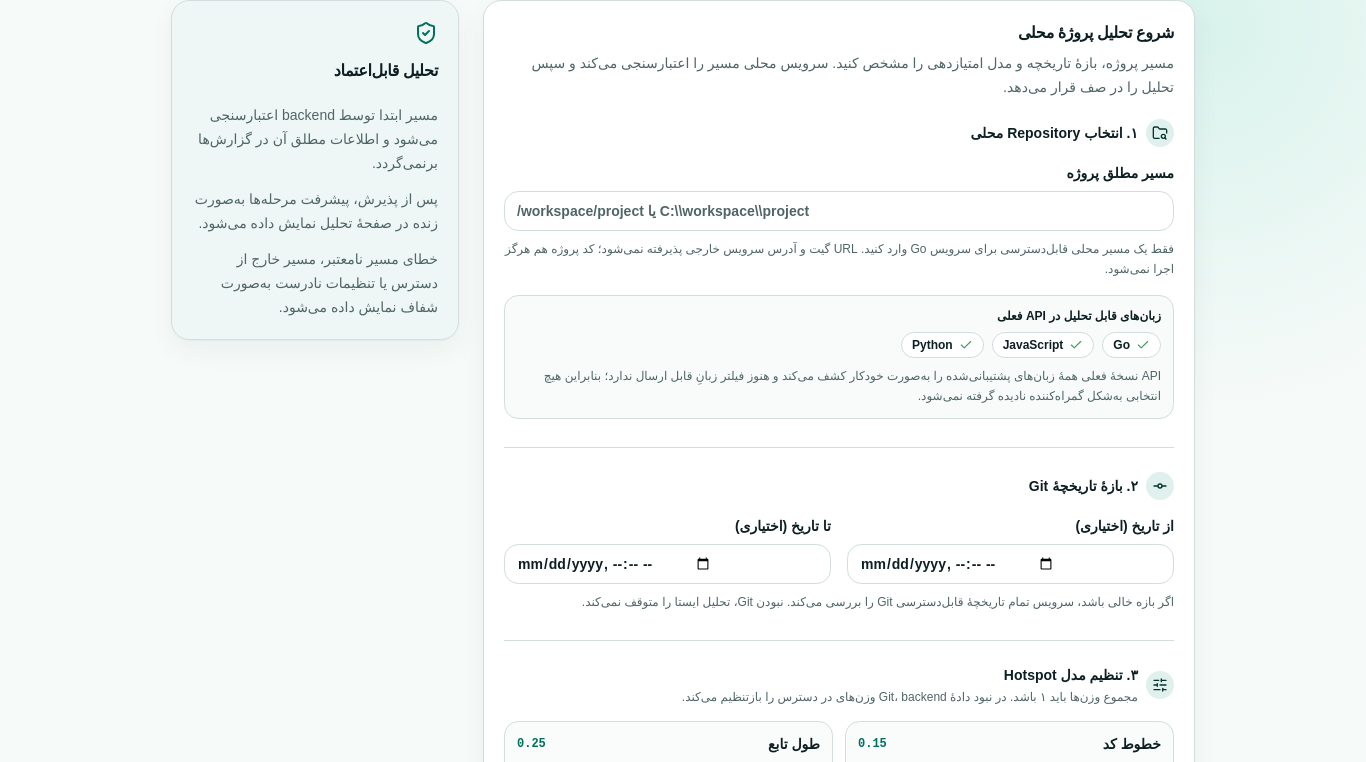
Test: NewAnalysisPage › keeps invalid non-local repository URLs out of the API
In the field labelled "مسیر مطلق پروژه": coordinates (839, 211) [504,191,1174,231], type "https://github.com/example/project.git"
(page scrolled)
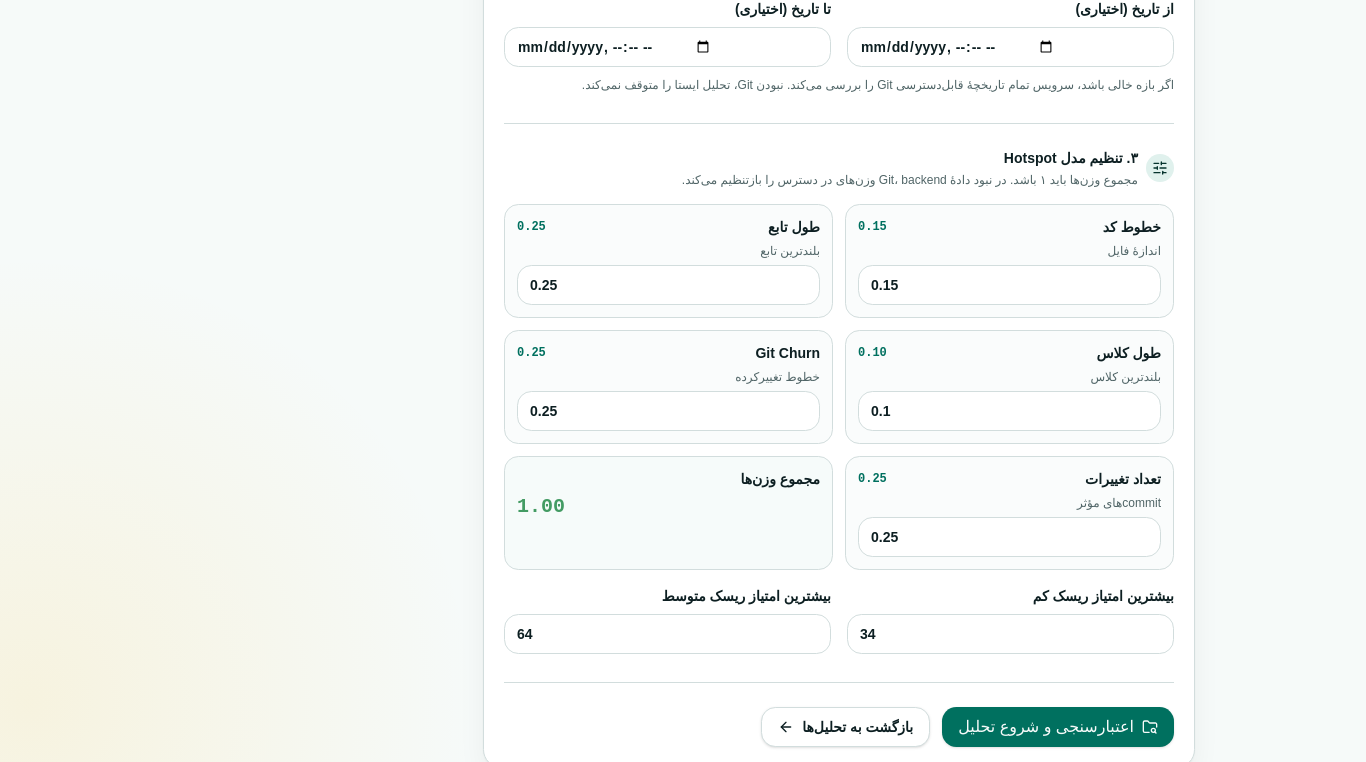
Click the button "اعتبارسنجی و شروع تحلیل": coordinates (1058, 727) [942,707,1174,747]
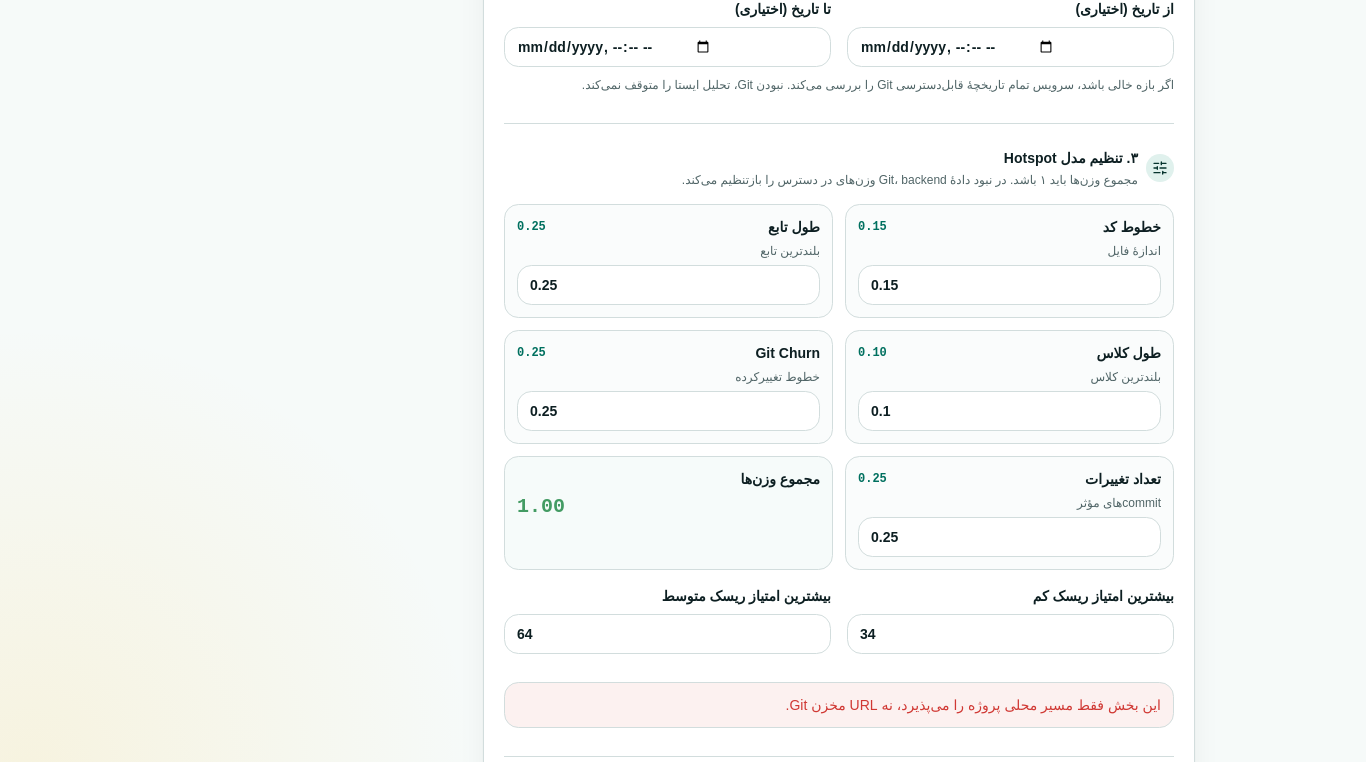
Expected: the message shows "فقط مسیر محلی پروژه را می‌پذیرد", [786,697,1161,713]
